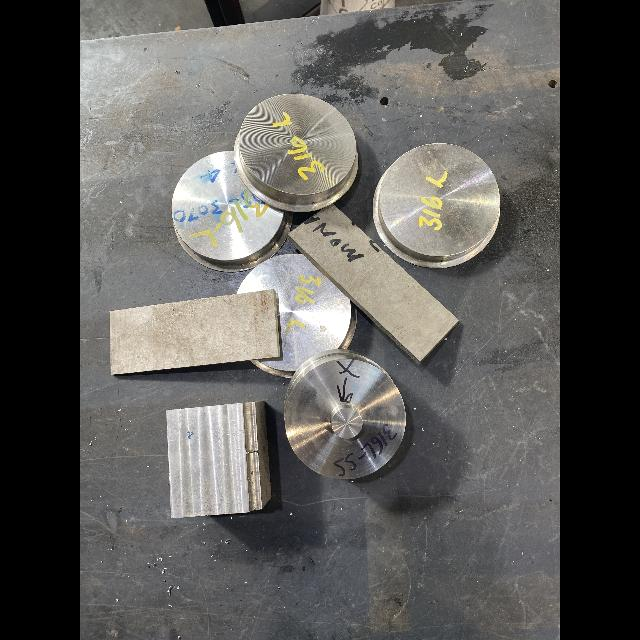Stainless Steel: (289, 205, 458, 363), (373, 143, 500, 268), (284, 350, 406, 480), (238, 252, 357, 377), (172, 151, 293, 272), (234, 94, 358, 212), (110, 289, 280, 375), (167, 401, 271, 518)
